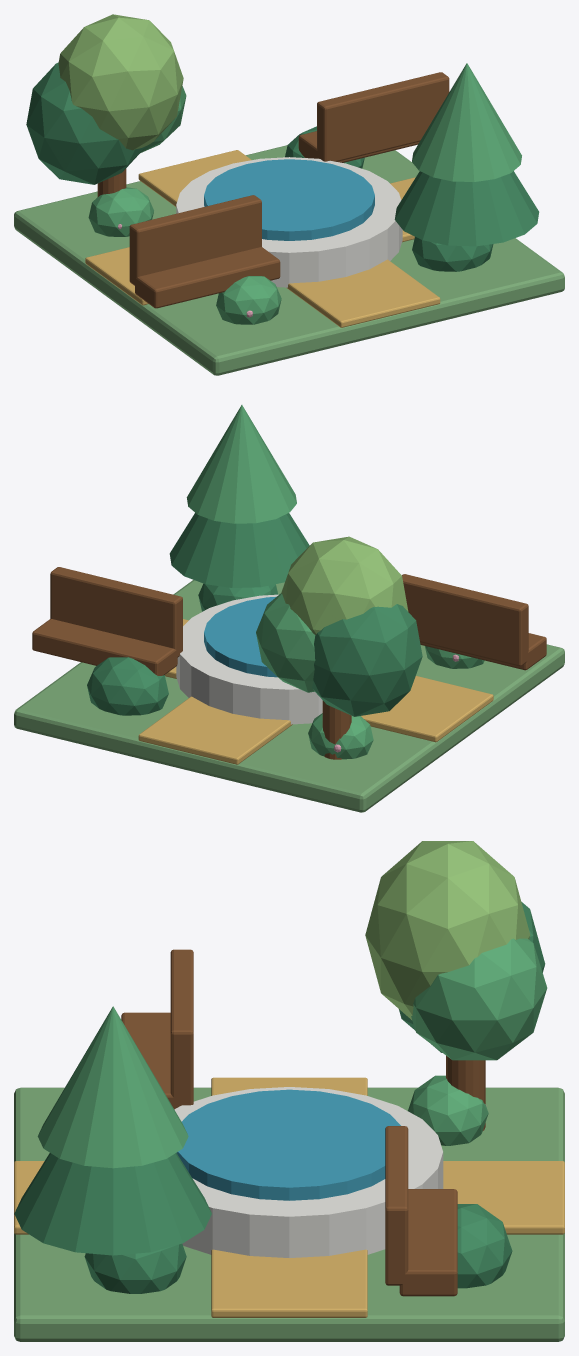
File: PARK_1x1_004.glb
3 renders of one model, top to bottom at view 1: azimuth 30°, elevation 25°; view 2: azimuth 150°, elevation 25°; view 3: azimuth 270°, elevation 25°, orthographic. The views are drawn at different scales.
Visible parts, largest first — view 1: PARK_1x1_004_Visual; view 2: PARK_1x1_004_Visual; view 3: PARK_1x1_004_Visual.
Boxes of the visible parts, x1,y1,x2,y2 form: PARK_1x1_004_Visual: [14, 14, 564, 375]; PARK_1x1_004_Visual: [14, 405, 564, 812]; PARK_1x1_004_Visual: [14, 841, 564, 1341].
Size of what is drawn, in the model's own units: 2.12 by 1.18 by 1.9.
